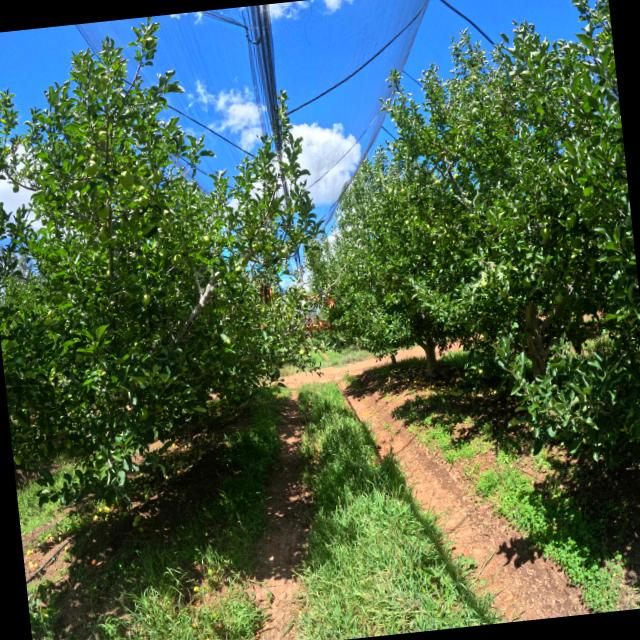-FireBlight-: (304, 315, 334, 335), (257, 282, 275, 305), (322, 296, 336, 307)
